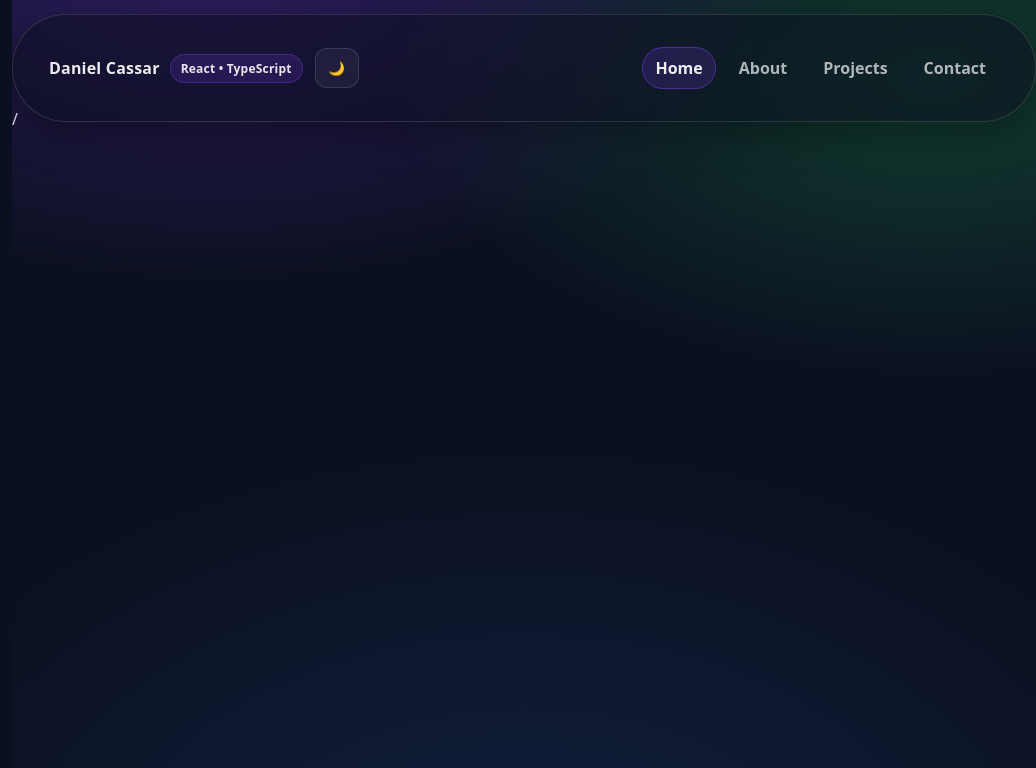
it: Navbar (routing behaviour) › highlights active route and navigates to About on click
The image size is (1036, 768).
What coordinates should you click on to do the following:
click the link "About"
I would click on:
 (763, 68)
Its box is [739,57,787,79].
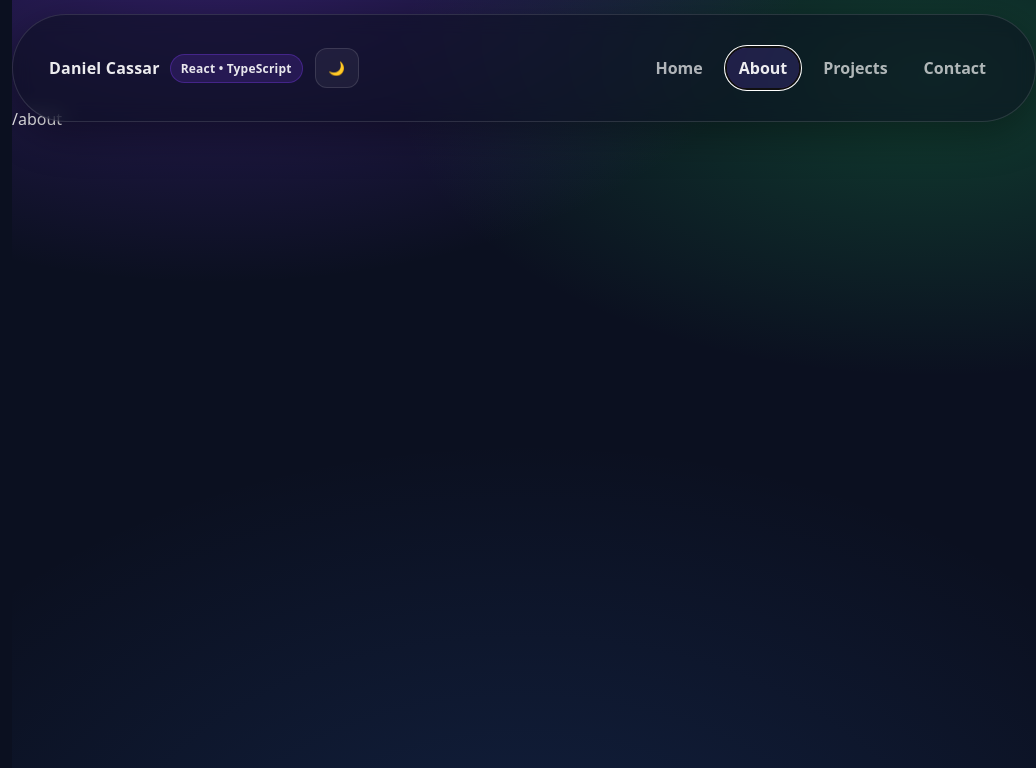
Expected: the text with test id "location" reads "/about", [12,108,62,130]
